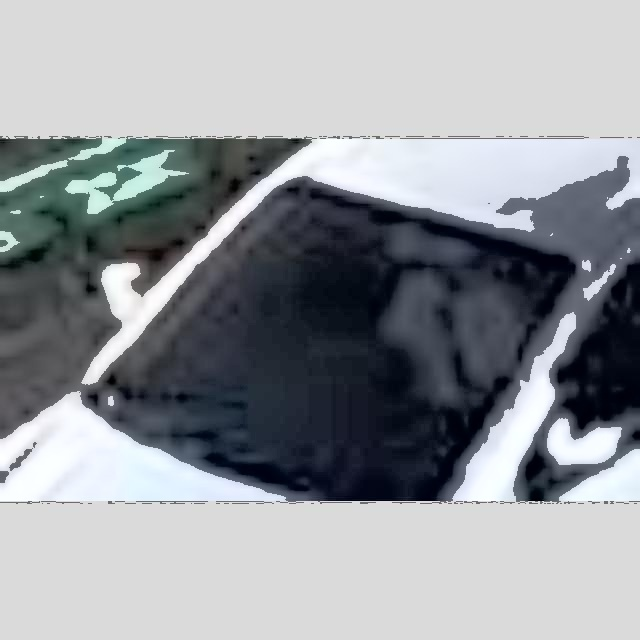pakai: (339, 216, 524, 417)
